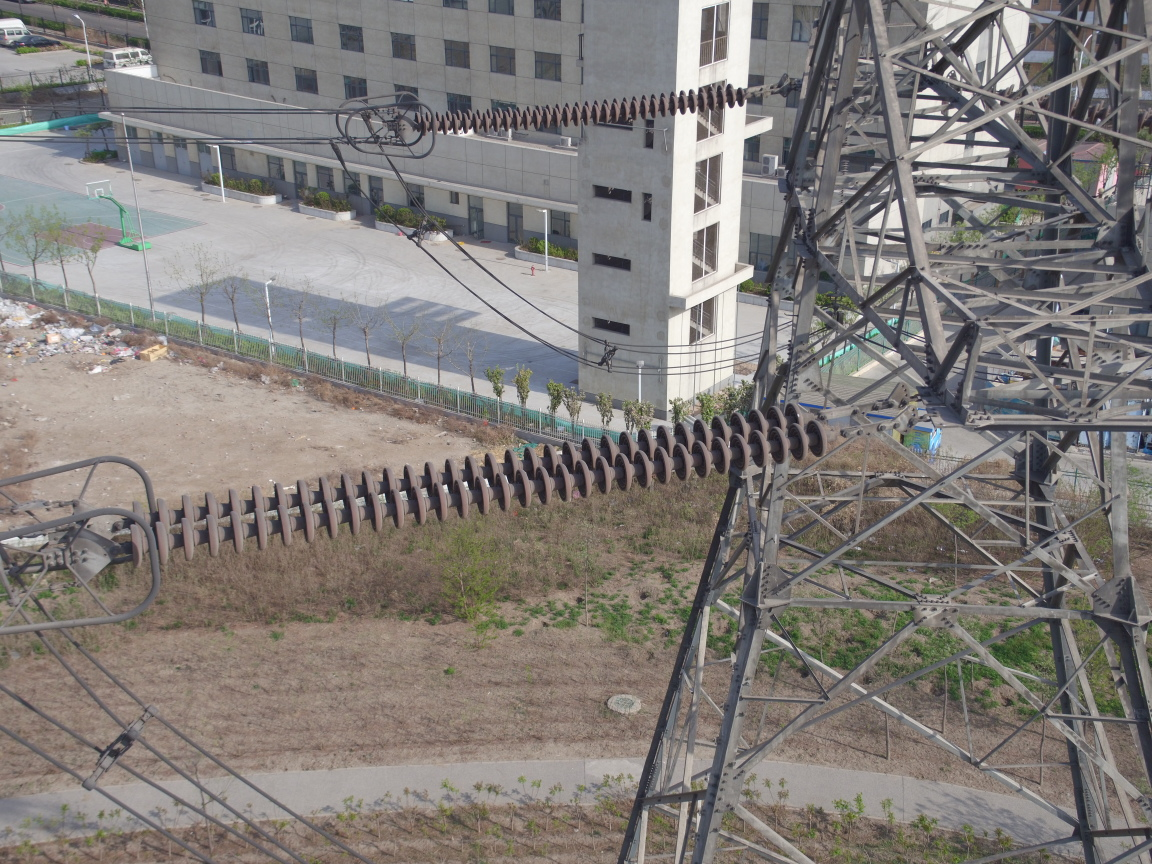insulator: (101, 396, 872, 570), (413, 78, 771, 139)
